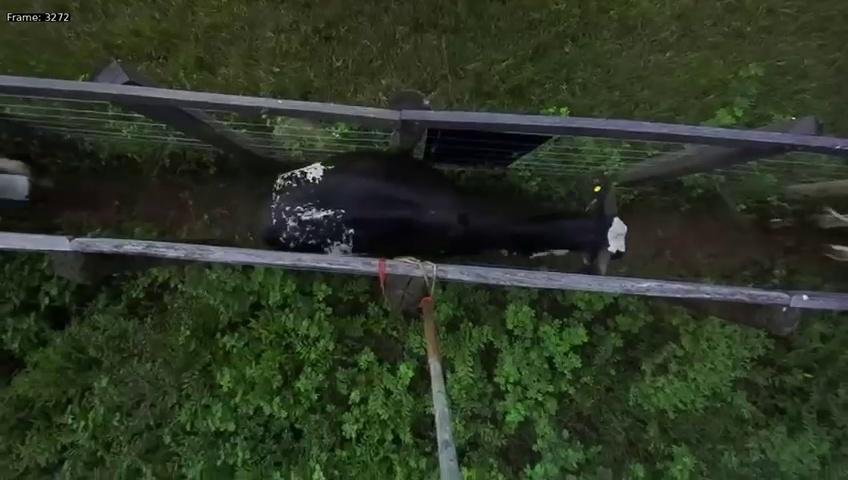cattle: (250, 157, 633, 278)
